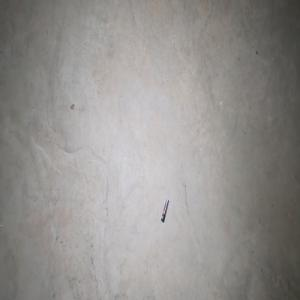Battery: (161, 198, 169, 223)
